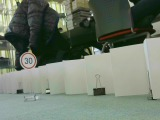speed_30: (19, 52, 36, 70)
